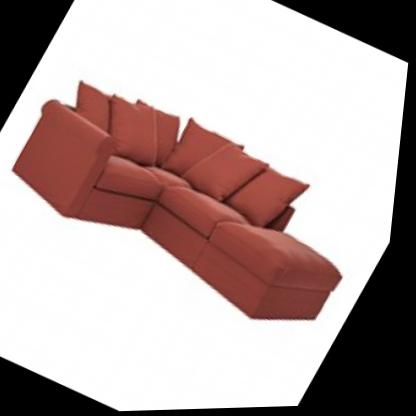Sofa: (0, 28, 413, 380)
